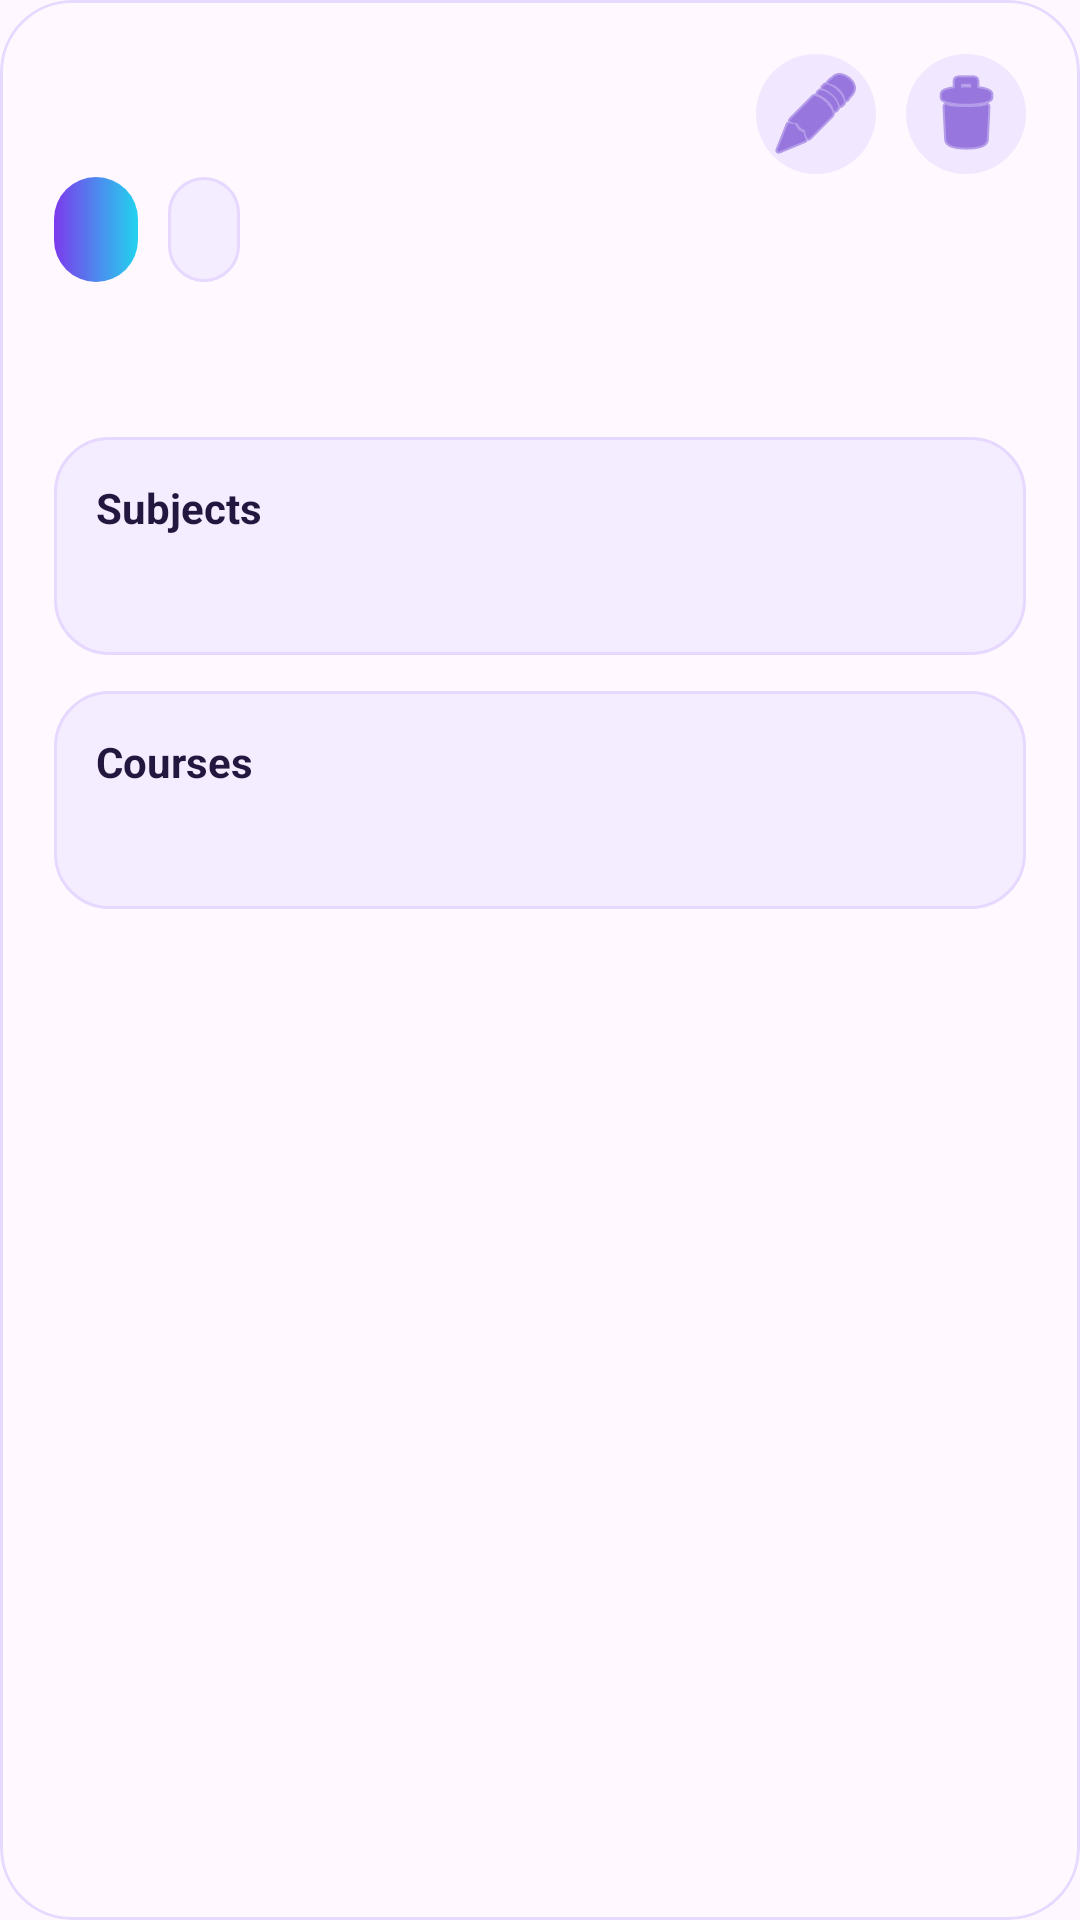

Named icons in this screenshot (1080w x 1920h) and their bounding boxes, (x1, y1, x2, y2):
Delete student: (939, 75, 994, 150)
Edit student: (756, 54, 876, 174)
